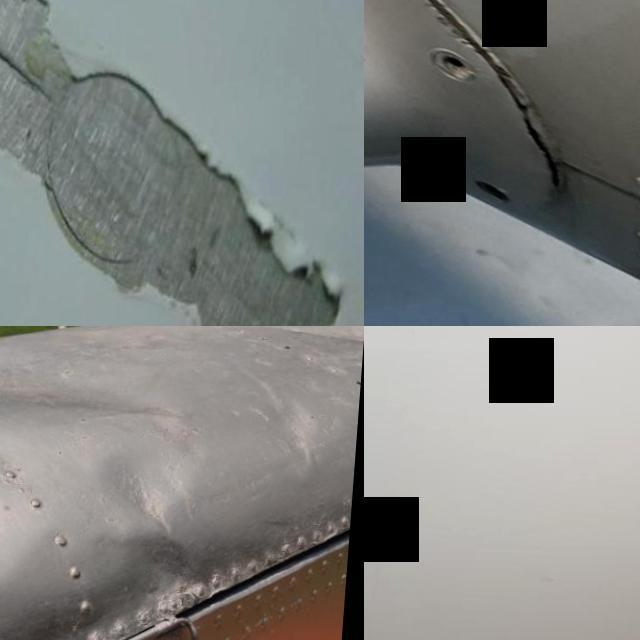Crack: (492, 5, 631, 221), (0, 0, 78, 117), (364, 0, 502, 44)
Dent: (86, 434, 200, 556)
Missing_Fastener: (428, 48, 479, 87), (474, 166, 520, 204)
